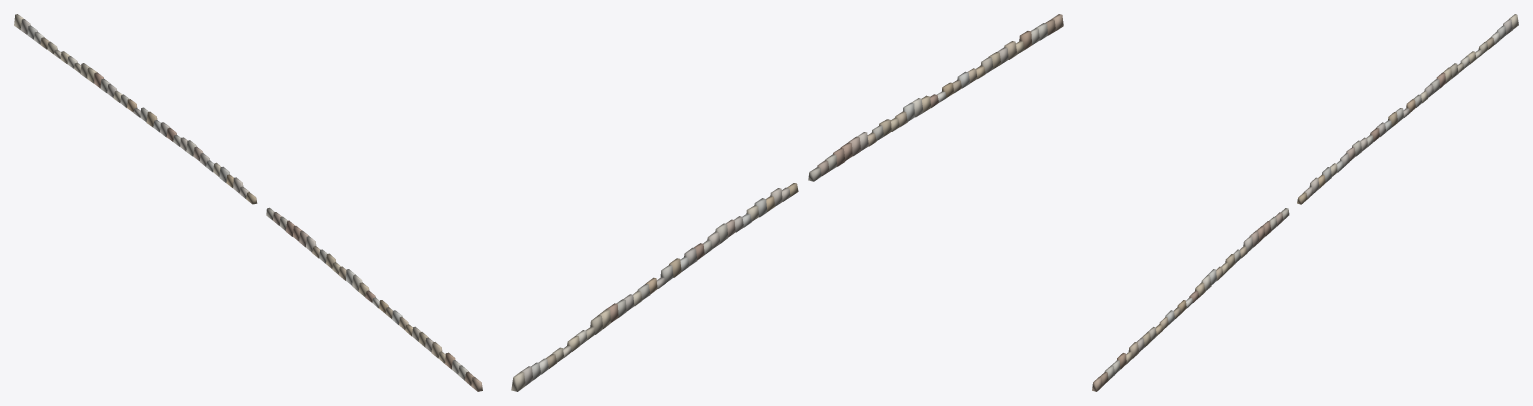
File: farm_-28_-28_far.glb
3 views of the same model, side by side, from view 1: azimuth 30°, elevation 25°; view 2: azimuth 150°, elevation 25°; view 3: azimuth 330°, elevation 25° (orthographic). The views are drawn at different scales.
Parts seen in each view (by area): view 1: geometry_0; view 2: geometry_0; view 3: geometry_0.
Part boxes in pixels (bbox=[...]): geometry_0: bbox=[14, 14, 482, 391]; geometry_0: bbox=[511, 14, 1063, 391]; geometry_0: bbox=[1092, 14, 1518, 391].
Size of the model in its own units: 3.08 by 7.37 by 111.
